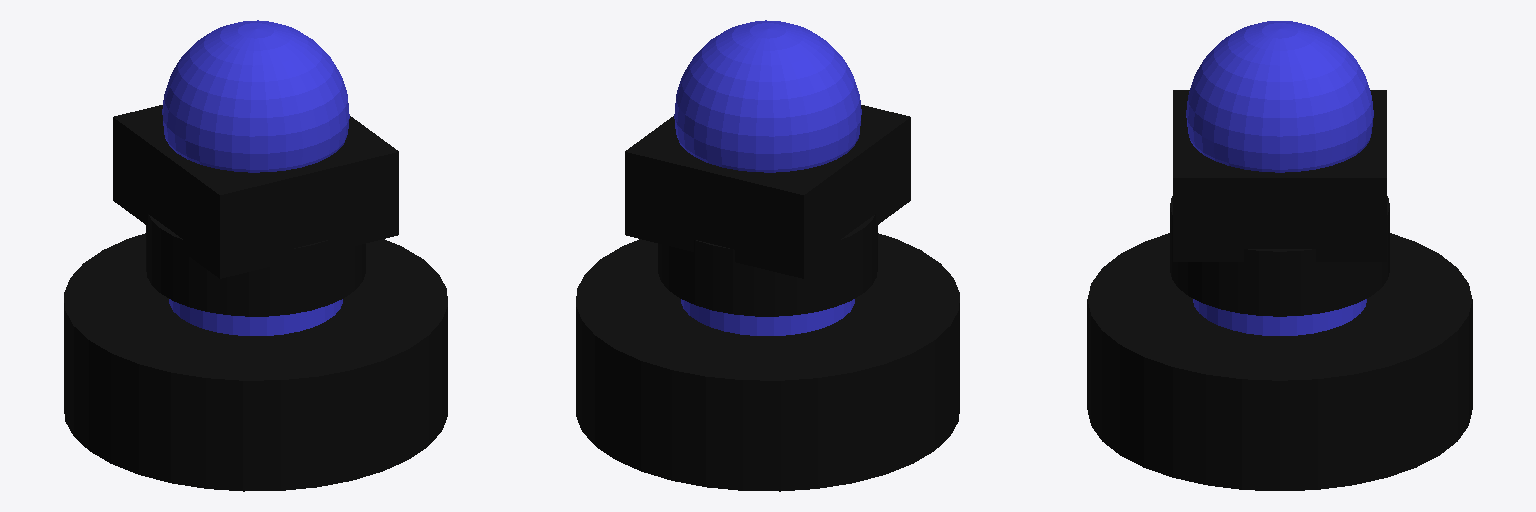
The robot description file, URDF, robot "evolved_robot":
<?xml version="1.0"?>
<robot name="evolved_robot">
  <material name="metal">
    <color rgba="0.7 0.7 0.7 1.0"/>
  </material>
  <material name="plastic">
    <color rgba="0.3 0.3 0.9 1.0"/>
  </material>
  <material name="rubber">
    <color rgba="0.1 0.1 0.1 1.0"/>
  </material>
  <material name="red">
    <color rgba="1.0 0.0 0.0 1.0"/>
  </material>
  <material name="wheel_material">
    <color rgba="0.2 0.2 0.2 1.0"/>
  </material>
  <link name="base_link">
    <visual>
      <geometry><cylinder radius="0.14136862802083966" length="0.08967099717663922"/></geometry>
      <material name="rubber"/>
    </visual>
    <collision>
      <geometry><cylinder radius="0.14136862802083966" length="0.08967099717663922"/></geometry>
    </collision>
    <inertial>
      <mass value="5.0"/>
      <inertia ixx="0.056663462250113684" ixy="0" ixz="0" 
               iyy="0.056663462250113684" iyz="0" 
               izz="0.09992544494247266"/>
    </inertial>
  </link>
  <link name="link1">
    <visual>
      <geometry><cylinder radius="0.06407593774871916" length="0.1427863277072362"/></geometry>
      <material name="plastic"/>
    </visual>
    <collision>
      <geometry><cylinder radius="0.06407593774871916" length="0.1427863277072362"/></geometry>
    </collision>
    <inertial>
      <mass value="0.5"/>
      <inertia ixx="0.0027254260646042867" ixy="0" ixz="0" 
               iyy="0.0027254260646042867" iyz="0" 
               izz="0.002052862899188866"/>
    </inertial>
  </link>
  <joint name="joint1" type="prismatic">
    <parent link="base_link"/>
    <child link="link1"/>
    <origin xyz="0 0 0.04483549858831961" rpy="0 0 0"/>
    <axis xyz="0.906113677164216 -0.3589202130908461 0.22390686610902424"/>
    <dynamics damping="0.7293403050006334" friction="0.1"/>
    <limit lower="-0.9547526151349045" upper="0.9438424306910559" effort="100" velocity="100"/>
  </joint>
  <link name="link2">
    <visual>
      <geometry><cylinder radius="0.08083269291082423" length="0.05266415619830942"/></geometry>
      <material name="rubber"/>
    </visual>
    <collision>
      <geometry><cylinder radius="0.08083269291082423" length="0.05266415619830942"/></geometry>
    </collision>
    <inertial>
      <mass value="0.5"/>
      <inertia ixx="0.0018646071731438978" ixy="0" ixz="0" 
               iyy="0.0018646071731438978" iyz="0" 
               izz="0.003266962121607807"/>
    </inertial>
  </link>
  <joint name="joint2" type="revolute">
    <parent link="base_link"/>
    <child link="link2"/>
    <origin xyz="0 0 0.0948354985883196" rpy="0 0 0"/>
    <axis xyz="0.12793577622601485 0.9916634348867461 0.015364539370490132"/>
    <dynamics damping="0.6963105089517138" friction="0.1"/>
    <limit lower="-0.9769207231415241" upper="0.3088238549099797" effort="100" velocity="100"/>
  </joint>
  <link name="link3">
    <visual>
      <geometry><box size="0.15197306139109826 0.15755732544313733 0.06773367558203931"/></geometry>
      <material name="rubber"/>
    </visual>
    <collision>
      <geometry><box size="0.15197306139109826 0.15755732544313733 0.06773367558203931"/></geometry>
    </collision>
    <inertial>
      <mass value="0.5"/>
      <inertia ixx="0.002451013467387303" ixy="0" ixz="0" 
               iyy="0.0023069718497029557" iyz="0" 
               izz="0.003993343515781434"/>
    </inertial>
  </link>
  <joint name="joint3" type="fixed">
    <parent link="base_link"/>
    <child link="link3"/>
    <origin xyz="0 0 0.14483549858831962" rpy="0 0 0"/>
    <axis xyz="0.5199554780873281 0.4175381768539448 0.7451900238707319"/>
    <dynamics damping="0.5887855533223098" friction="0.1"/>
  </joint>
  <link name="link4">
    <visual>
      <geometry><sphere radius="0.06896209589531067"/></geometry>
      <material name="plastic"/>
    </visual>
    <collision>
      <geometry><sphere radius="0.06896209589531067"/></geometry>
    </collision>
    <inertial>
      <mass value="0.5"/>
      <inertia ixx="0.00190230826810961" ixy="0" ixz="0" 
               iyy="0.00190230826810961" iyz="0" 
               izz="0.00190230826810961"/>
    </inertial>
  </link>
  <joint name="joint4" type="prismatic">
    <parent link="base_link"/>
    <child link="link4"/>
    <origin xyz="0 0 0.19483549858831964" rpy="0 0 0"/>
    <axis xyz="-0.08577462351648497 -0.8935830553339809 -0.44062686842791726"/>
    <dynamics damping="0.7617778135493298" friction="0.1"/>
    <limit lower="-0.6705610024174679" upper="1.2717046001244015" effort="100" velocity="100"/>
  </joint>
</robot>

--- Facts derived from the render (not from the file) ---
Views: 3 orthographic renders of the robot side by side, from view 1: azimuth 30°, elevation 25°; view 2: azimuth 150°, elevation 25°; view 3: azimuth 270°, elevation 25°.
Model evolved_robot with 5 links and 4 joints (1 revolute, 2 prismatic, 1 fixed), rooted at base_link, posed all joints at 0.
Links seen in each view (by area): view 1: base_link, link3, link4, link2, link1; view 2: base_link, link3, link4, link2, link1; view 3: base_link, link4, link3, link2, link1.
Link boxes in pixels (x1,y1,x2,y2): base_link: (64,233,447,491); link3: (113,105,398,278); link4: (162,20,349,172); link2: (146,214,365,316); link1: (169,299,342,335); base_link: (576,233,959,491); link3: (625,105,910,278); link4: (674,20,861,172); link2: (658,214,877,316); link1: (681,299,854,335); base_link: (1087,233,1472,490); link4: (1186,21,1373,172); link3: (1173,90,1386,261); link2: (1170,196,1389,316); link1: (1193,299,1366,335).
Size in the robot's own frame: 0.2827 by 0.2827 by 0.3086 metres.
Geometry: primitives only (box / cylinder / sphere), no mesh files.